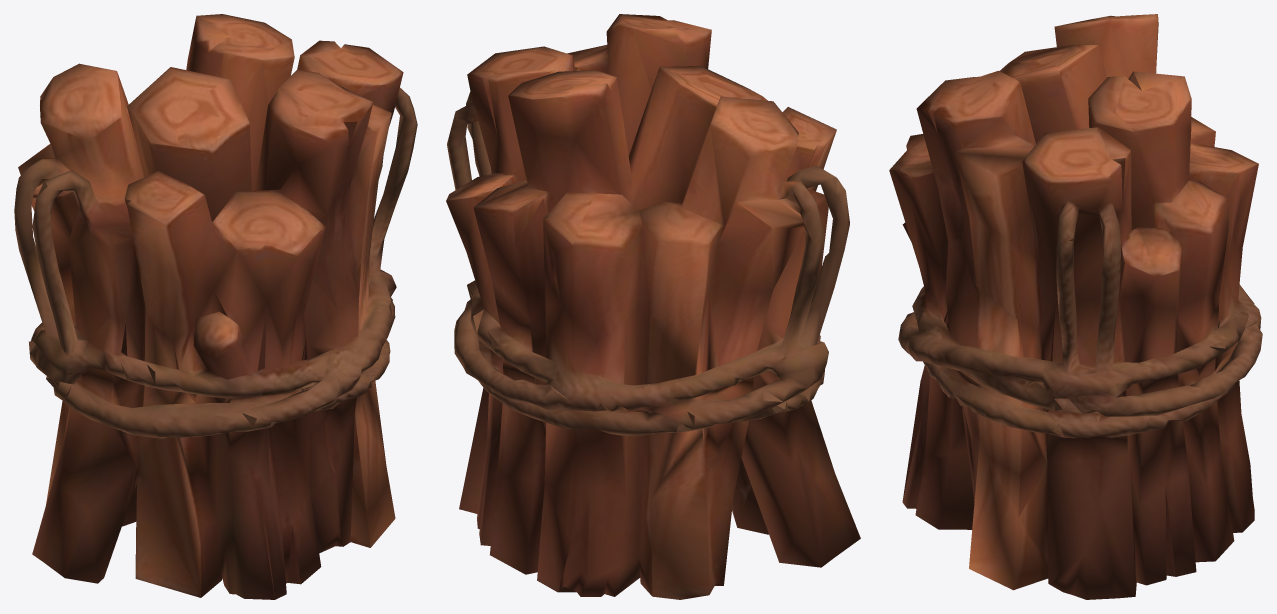
File: back_firewood_idle.glb
3 renders of one model, left to right at view 1: azimuth 30°, elevation 25°; view 2: azimuth 150°, elevation 25°; view 3: azimuth 270°, elevation 25°, orthographic.
Visible parts, largest first — view 1: back_firewood; view 2: back_firewood; view 3: back_firewood.
Boxes of the visible parts, x1,y1,x2,y2 form: back_firewood: [14, 14, 417, 599]; back_firewood: [446, 14, 860, 599]; back_firewood: [889, 14, 1262, 599].
Bounding box in the file's own units: 0.5063 × 0.5988 × 0.4366.
1 material, 1 textured.
